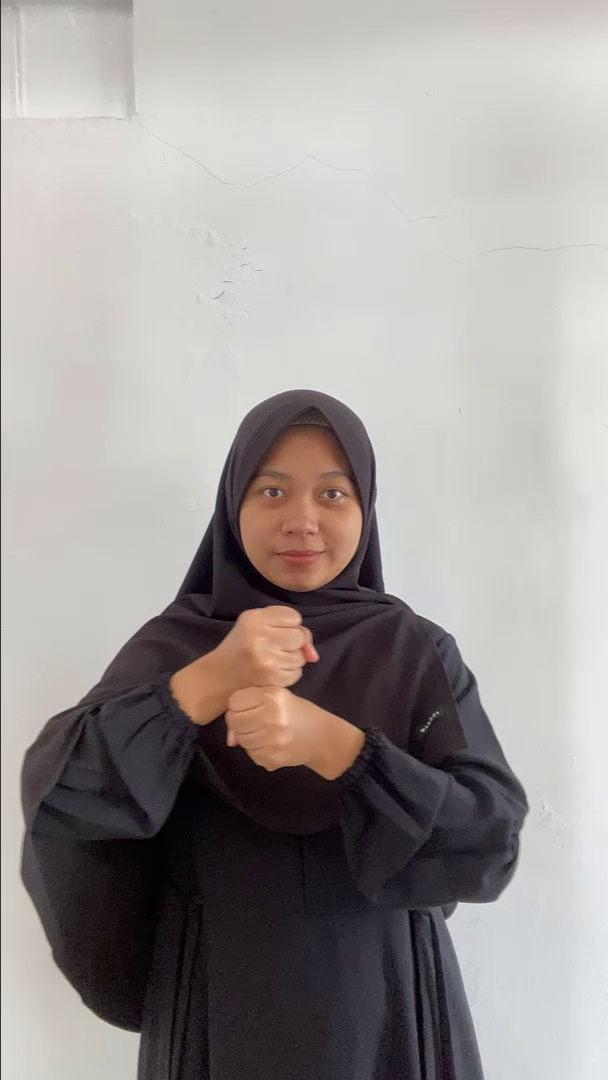MINGGU: (169, 594, 356, 800)
